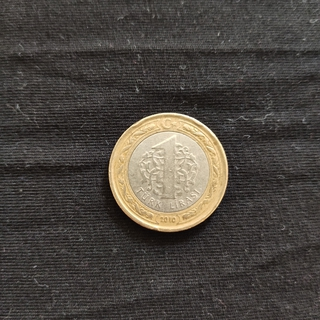1TL: (104, 108, 230, 235)
